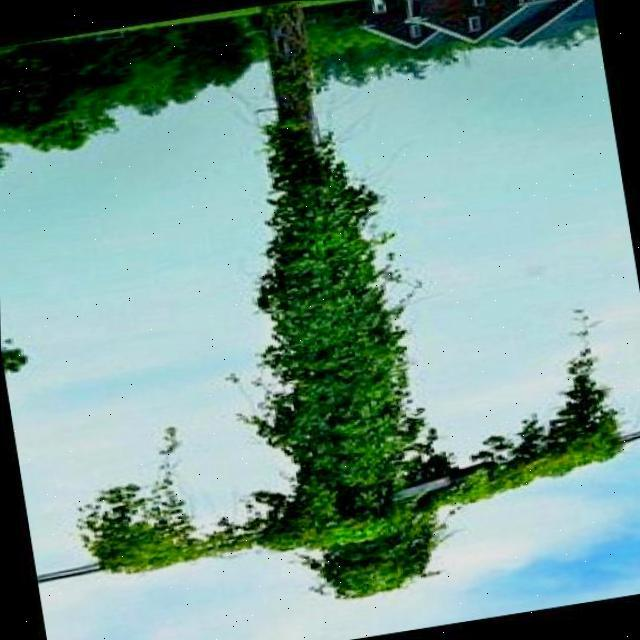critical vegetation: (31, 63, 640, 640)
